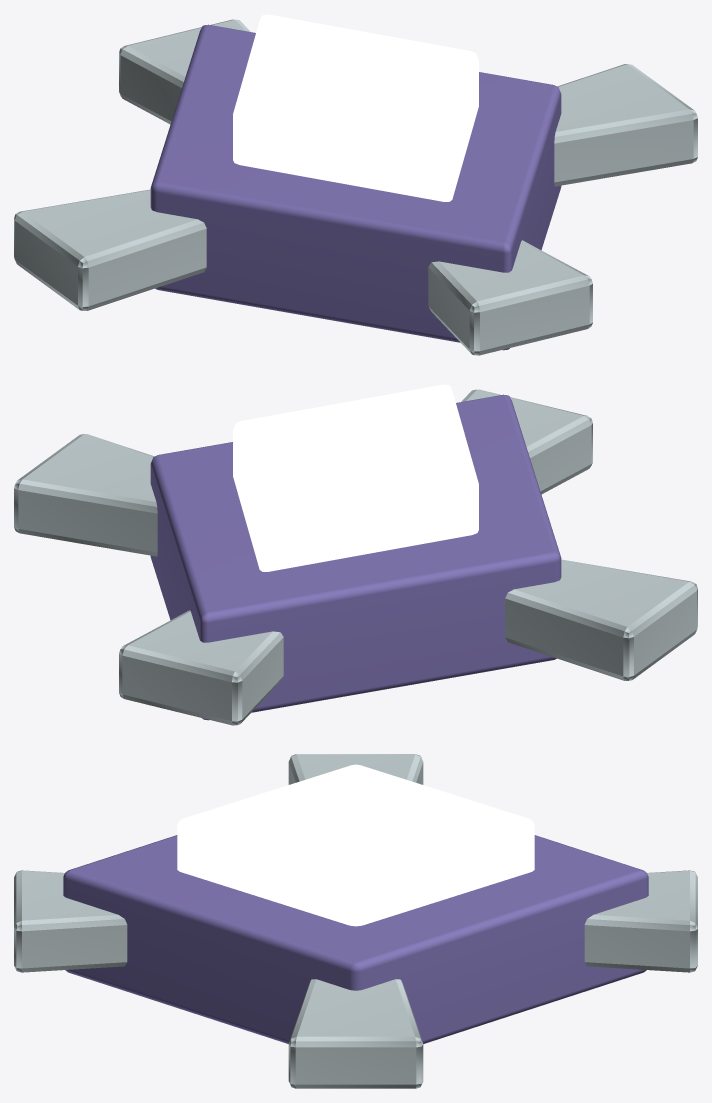
Rendered from lightmine.glb.
The picture shows the model from 3 angles, top to bottom: view 1: azimuth 30°, elevation 25°; view 2: azimuth 150°, elevation 25°; view 3: azimuth 270°, elevation 25°; orthographic projection. The views are drawn at different scales.
Parts seen in each view (by area): view 1: lightmine / body / lightmine dark structure, lightmine / body / Brushed silver ceramic, lightmine / body / lightmine emissive insert; view 2: lightmine / body / lightmine dark structure, lightmine / body / Brushed silver ceramic, lightmine / body / lightmine emissive insert; view 3: lightmine / body / lightmine dark structure, lightmine / body / lightmine emissive insert, lightmine / body / Brushed silver ceramic.
Boxes of the visible parts, x1=… form: lightmine / body / lightmine dark structure: x1=150, y1=24, x2=561, y2=350; lightmine / body / Brushed silver ceramic: x1=14, y1=19, x2=697, y2=355; lightmine / body / lightmine emissive insert: x1=233, y1=14, x2=478, y2=201; lightmine / body / lightmine dark structure: x1=150, y1=394, x2=561, y2=720; lightmine / body / Brushed silver ceramic: x1=14, y1=389, x2=697, y2=725; lightmine / body / lightmine emissive insert: x1=233, y1=384, x2=478, y2=571; lightmine / body / lightmine dark structure: x1=63, y1=835, x2=648, y2=1043; lightmine / body / lightmine emissive insert: x1=177, y1=764, x2=534, y2=926; lightmine / body / Brushed silver ceramic: x1=14, y1=754, x2=697, y2=1088.
Bounding box in the file's own units: 30 × 7.5 × 30.
